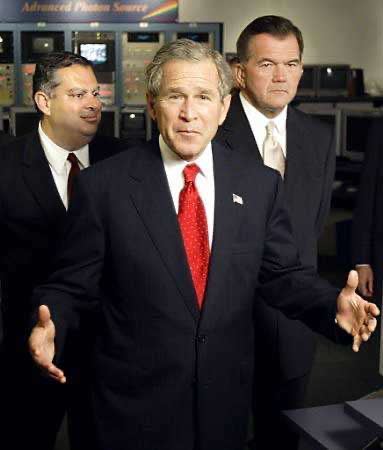Face: (154, 73, 223, 157), (249, 44, 307, 114), (53, 78, 109, 145)
